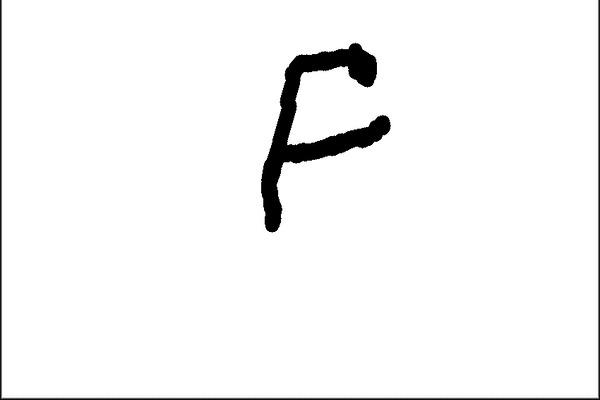F: (255, 37, 393, 236)
